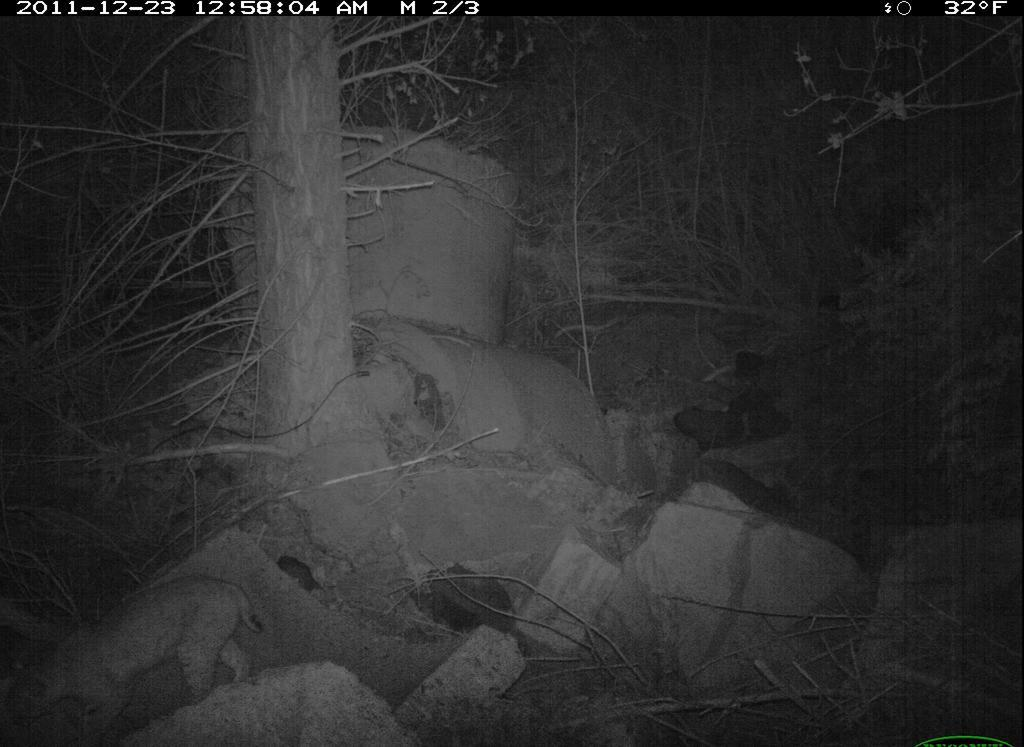bobcat: (8, 556, 274, 740)
